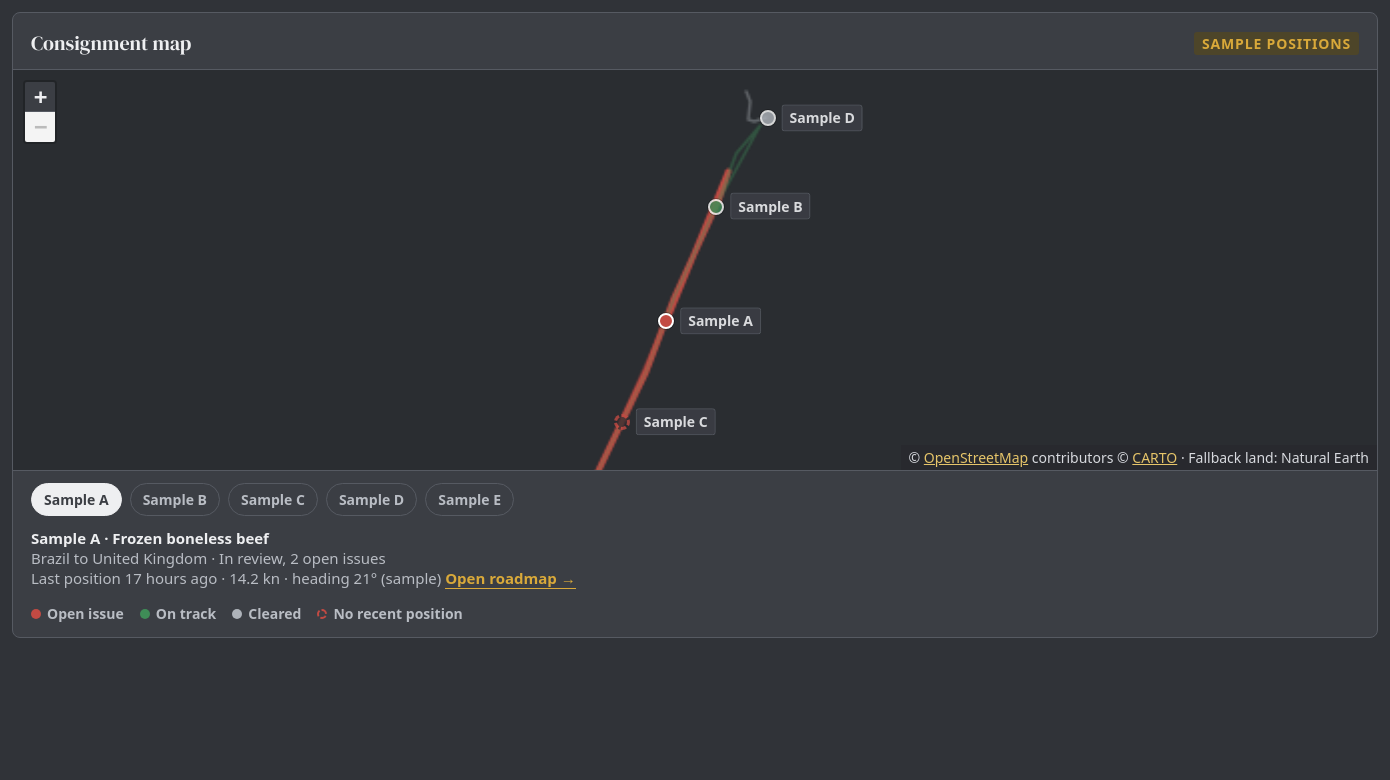
Test case: the sample fixture › still renders through the same map, flagged as sample, with a hollow marker and no marker for the unavailable one
Expected: the text "Sample positions" is shown, [1194,32,1359,54]
Step 1. Click the button "Sample E" → (470, 500), box [425,483,514,516]
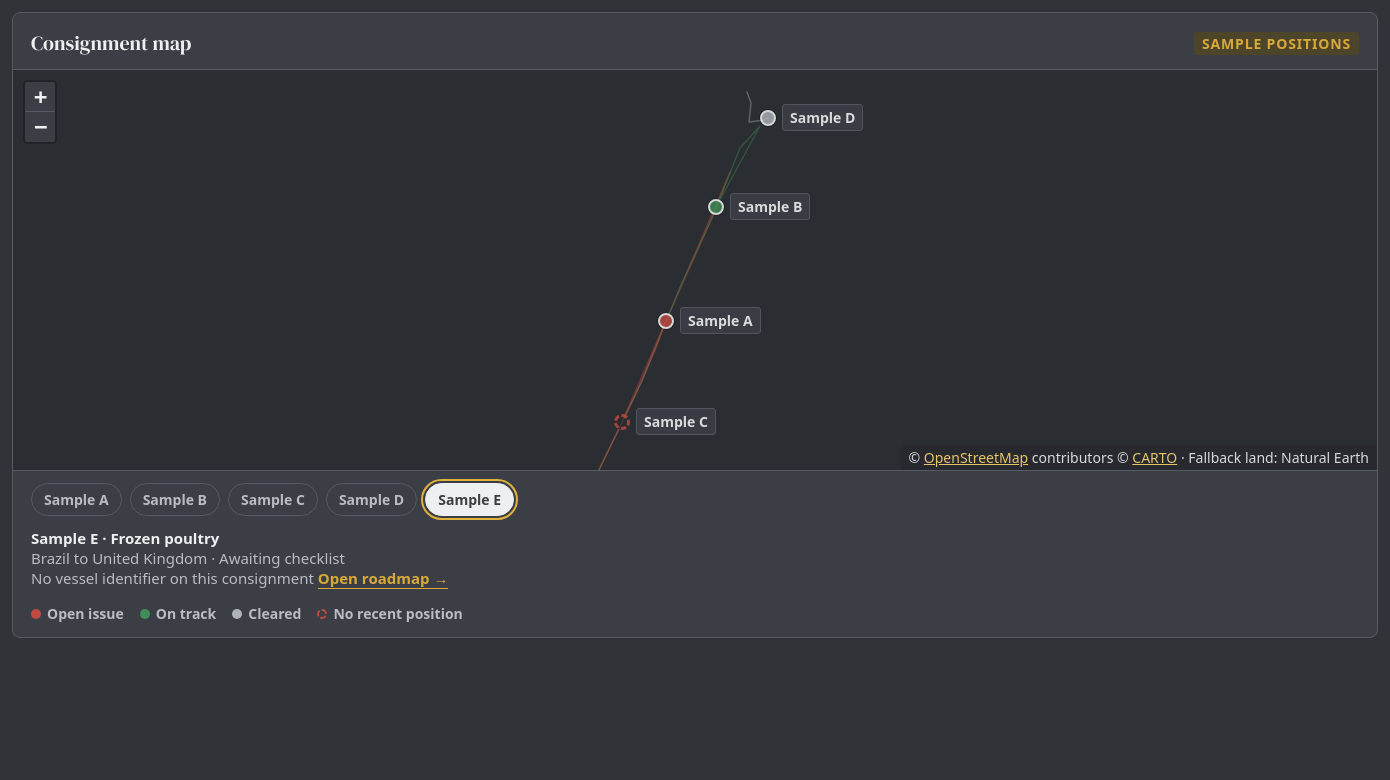
Expected: the element "Consignment map" shows "No vessel identifier on this consignment", [31,568,314,588]
